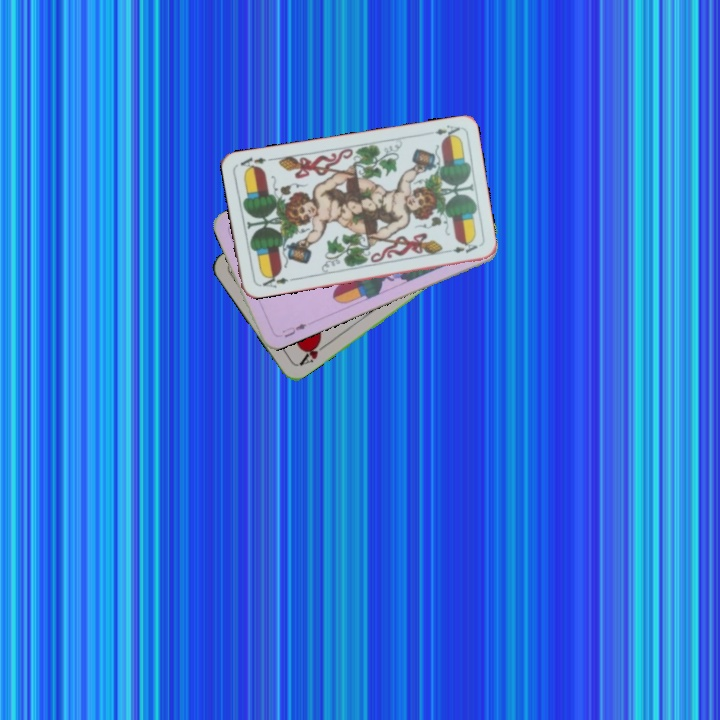EA: (255, 270, 295, 291), (431, 121, 462, 141)
EU: (278, 319, 309, 340)
HA: (295, 337, 329, 369)
